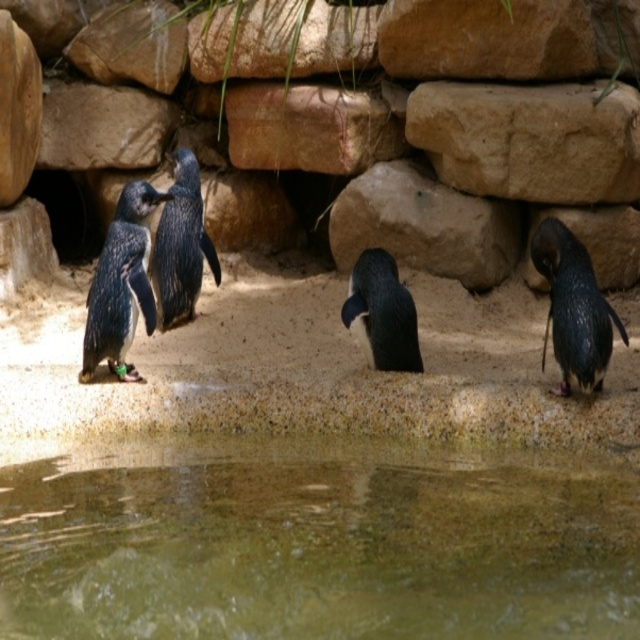Penguin: (529, 206, 629, 408), (74, 179, 174, 379), (146, 139, 222, 334), (339, 246, 420, 374)
